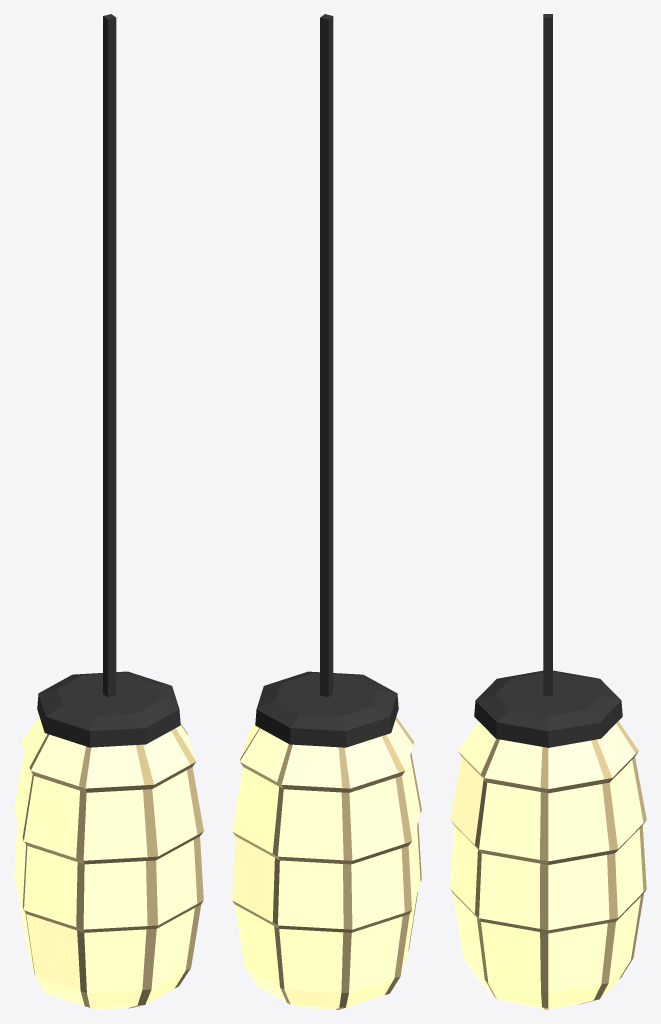
Rendered from set_2_lamp.glb.
3 renders of one model, left to right at view 1: azimuth 30°, elevation 25°; view 2: azimuth 150°, elevation 25°; view 3: azimuth 270°, elevation 25°, orthographic.
Visible parts, largest first — view 1: Lamp2; view 2: Lamp2; view 3: Lamp2.
Boxes of the visible parts, bbox=[...] form: Lamp2: bbox=[14, 14, 203, 1009]; Lamp2: bbox=[232, 14, 421, 1009]; Lamp2: bbox=[450, 14, 646, 1009].
Bounding box in the file's own units: 0.327 × 1.79 × 0.327.
